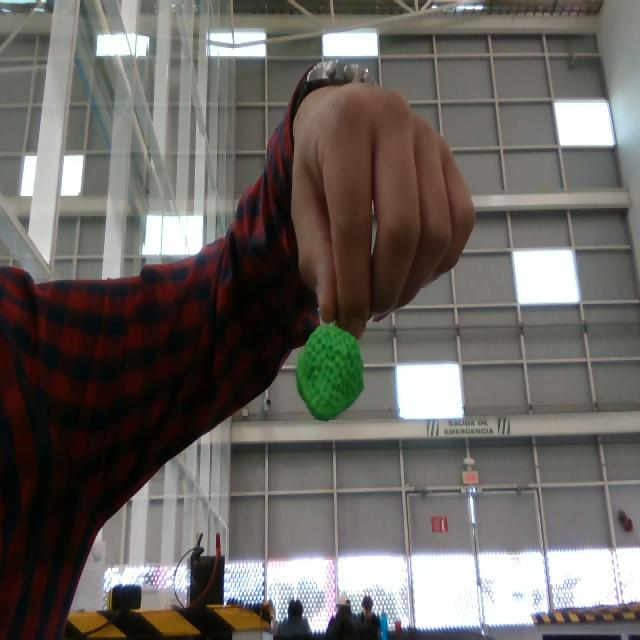verde: (295, 323, 365, 422)
